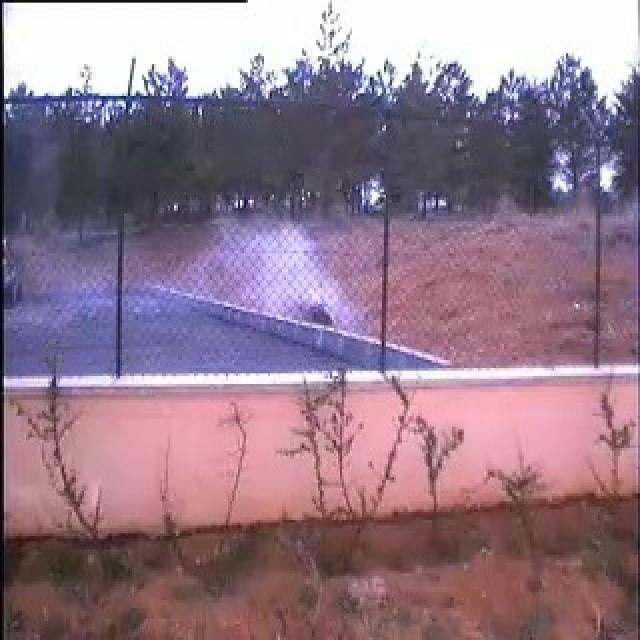smoke: (68, 222, 383, 374)
